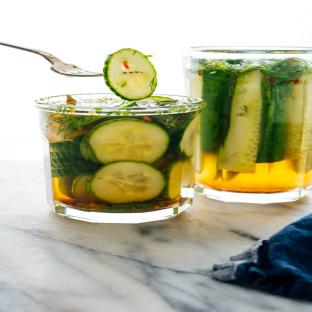Cucumber: (217, 70, 262, 173), (191, 69, 234, 152), (88, 119, 169, 163), (89, 162, 166, 204), (257, 73, 289, 162), (104, 49, 157, 100), (286, 77, 305, 159), (296, 74, 311, 173), (161, 160, 194, 200), (80, 200, 164, 211), (180, 114, 200, 156), (52, 161, 98, 177), (72, 173, 97, 202), (80, 133, 100, 163), (50, 135, 84, 151), (58, 175, 76, 197), (51, 153, 83, 165), (52, 159, 86, 169), (50, 150, 79, 158), (50, 144, 79, 152), (221, 170, 239, 181), (145, 96, 175, 102)
